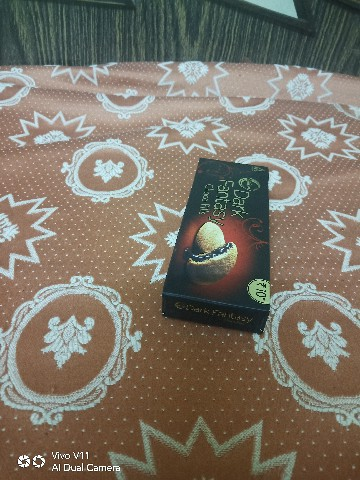darkfantasy small: (148, 152, 281, 333)
